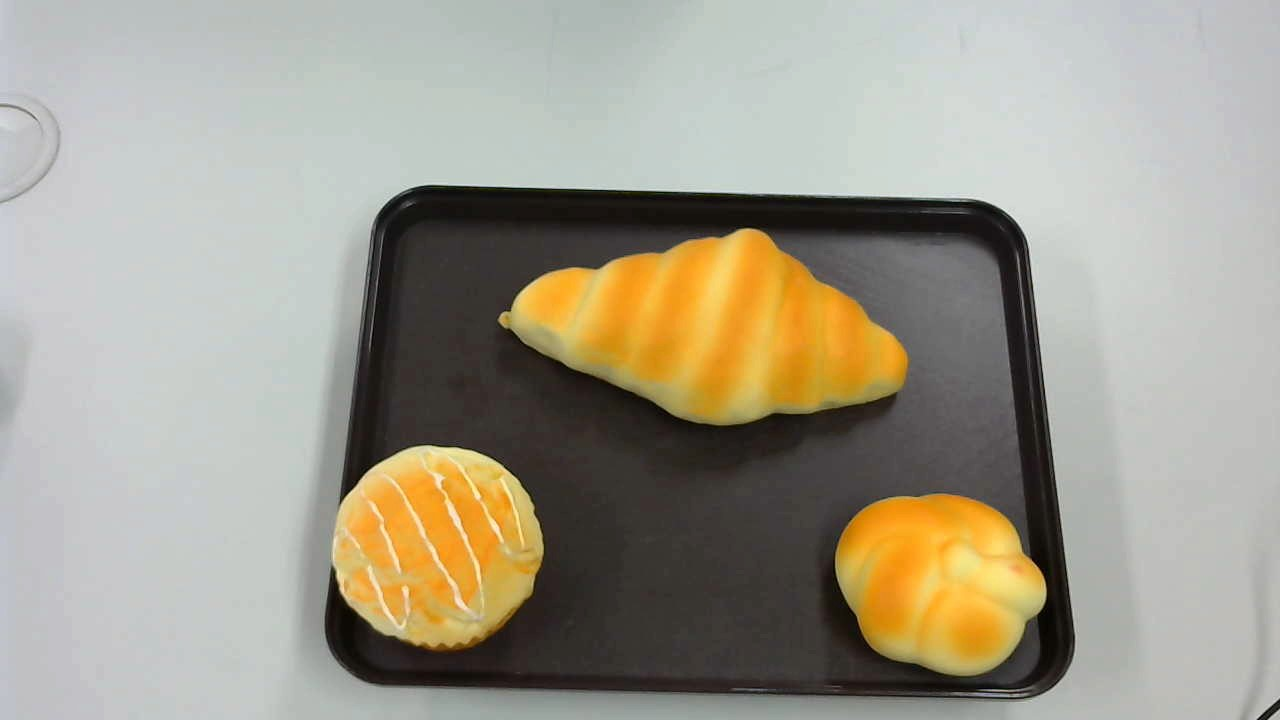croissant: (497, 227, 908, 427), (834, 494, 1047, 675)
cupcake: (331, 444, 544, 651)
